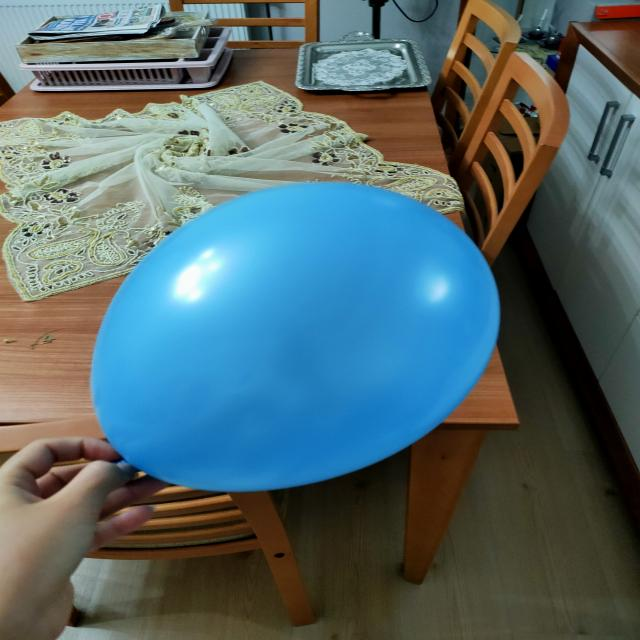blue: (93, 181, 500, 492)
